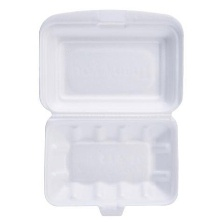foam_box: (31, 4, 190, 223)
